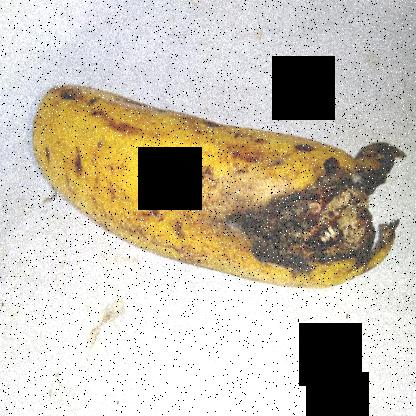rotten: (218, 128, 416, 310)
